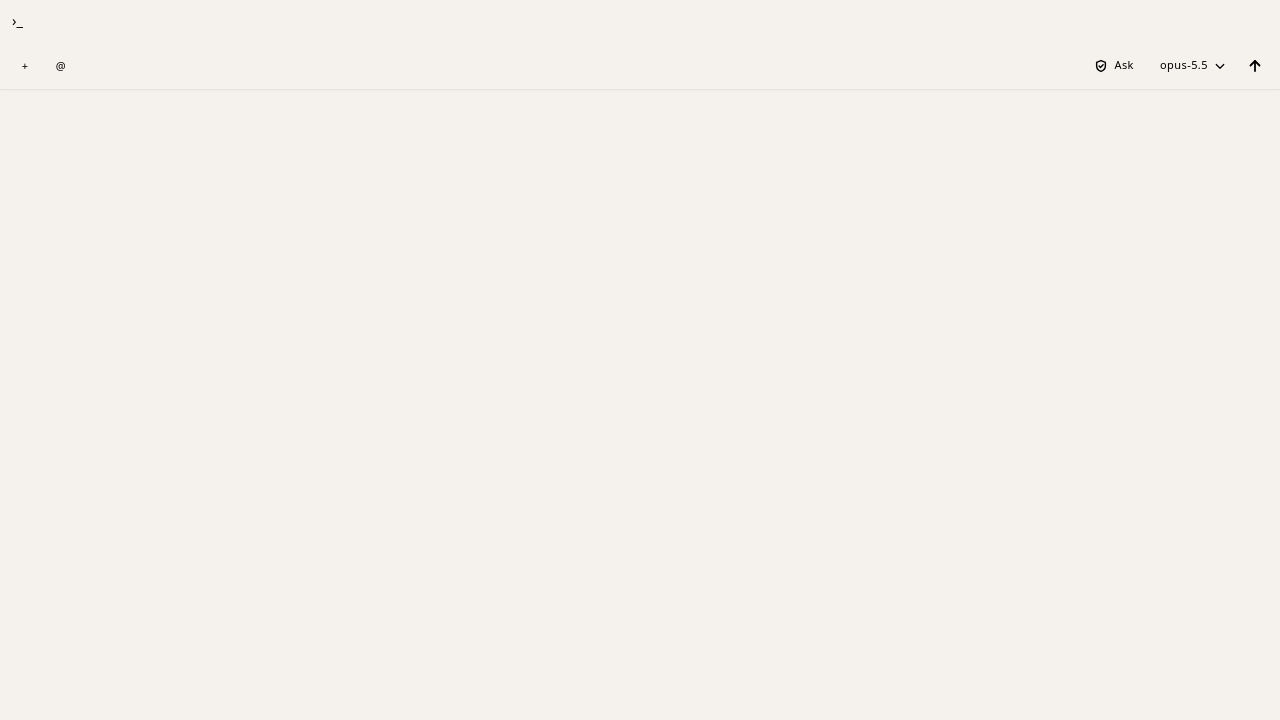
Test: ManageComposer Home model defaults › reloads status and shows why when the backend has switched runtime
Click the button with aria-label "Model settings:".
click(1193, 66)  # box [1152,51,1234,81]
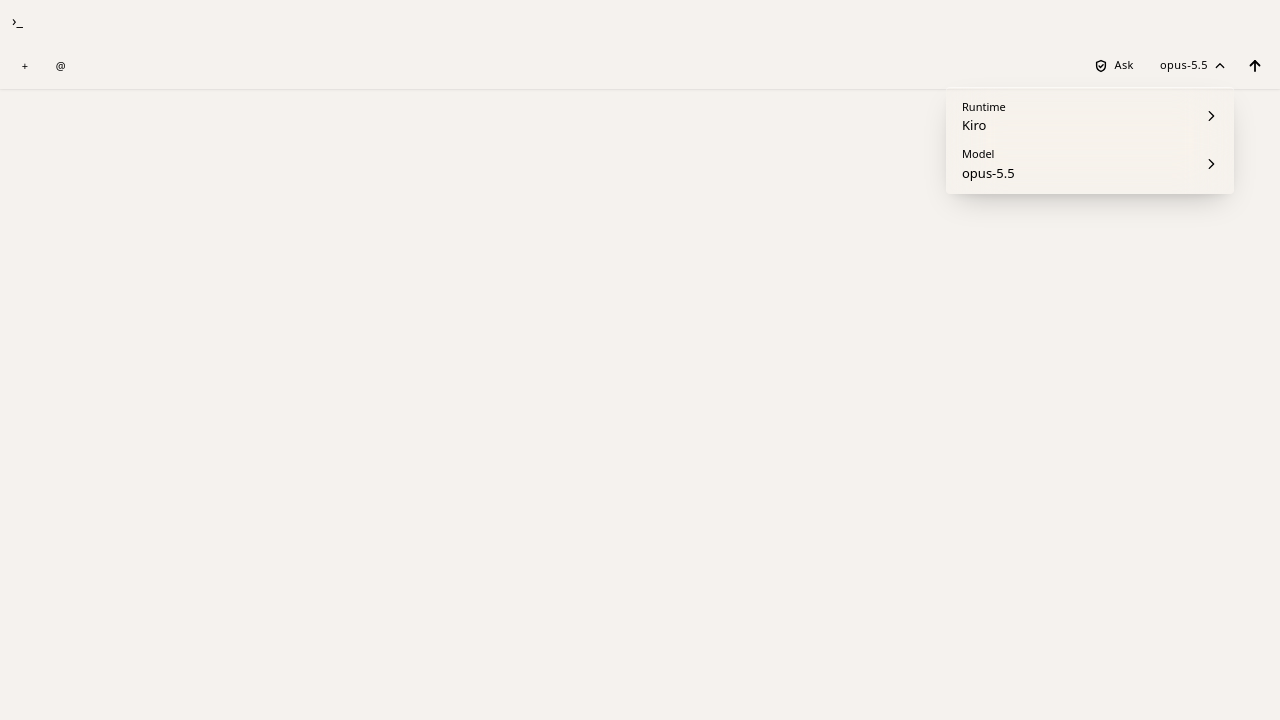
Click the button with aria-label "Select model:".
click(978, 154)  # box [952,140,1228,188]
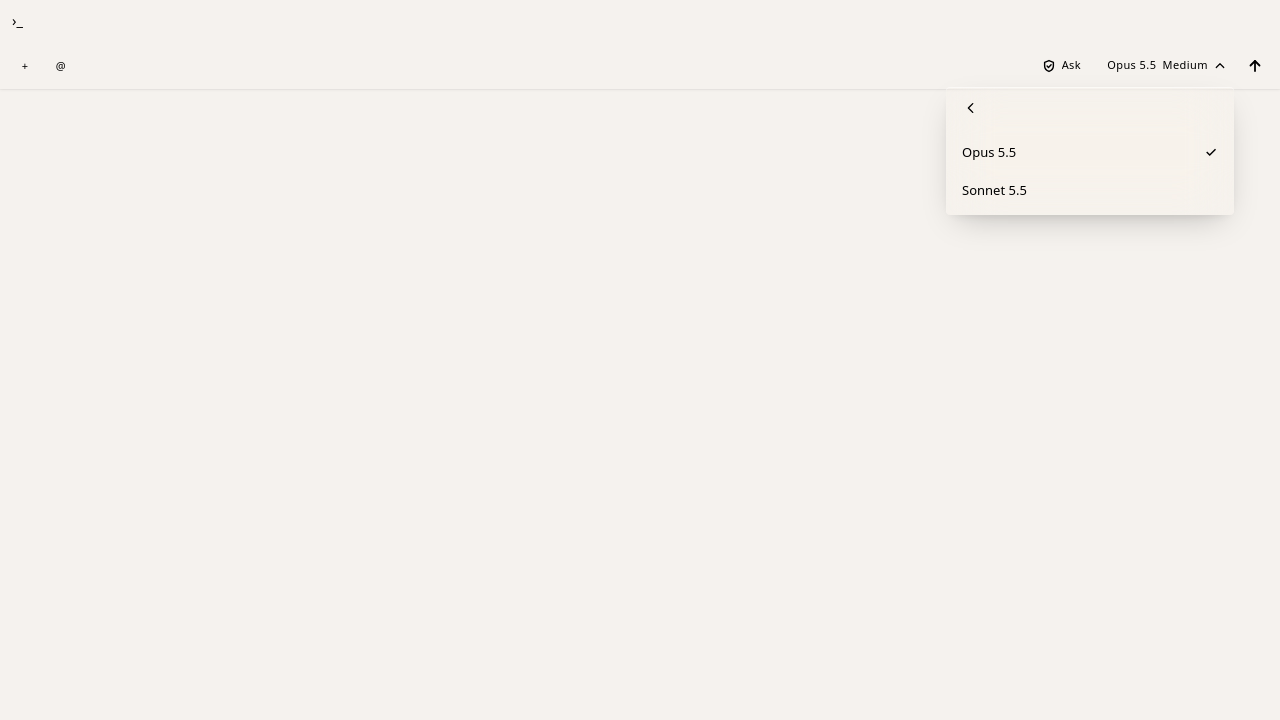
Click the menu item "Sonnet 5.5".
click(994, 190)  # box [952,171,1228,209]
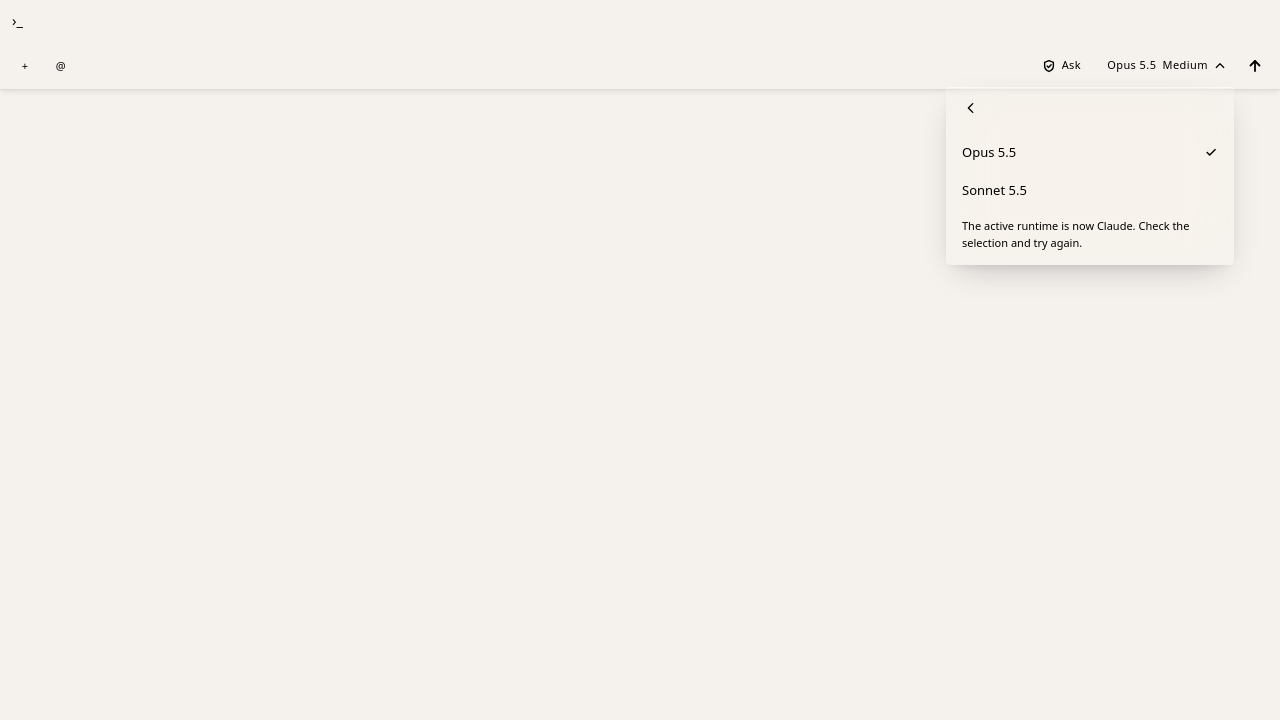
Check: the message shows "The active runtime is now Claude", box [962,218,1189,250]
